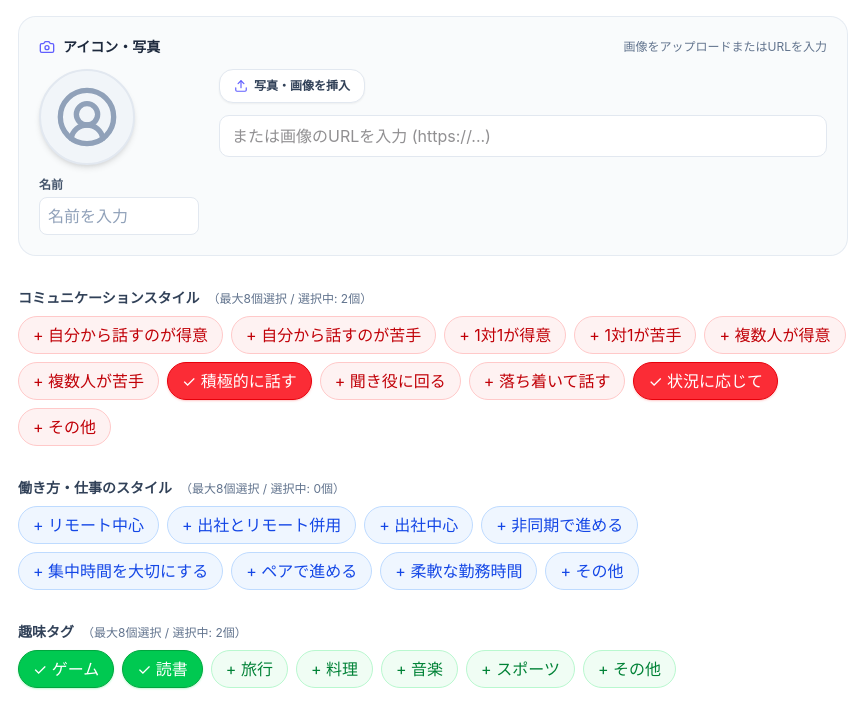
Scenario: ProfileSettingsForm (Step 3 - タグ選択UIと統合) › その他を選ぶとコミュニケーション用の独自タグを追加できる
This screenshot has width=865, height=705.
Click the 1st button "+ その他".
click(65, 427)  # box [18,408,111,446]
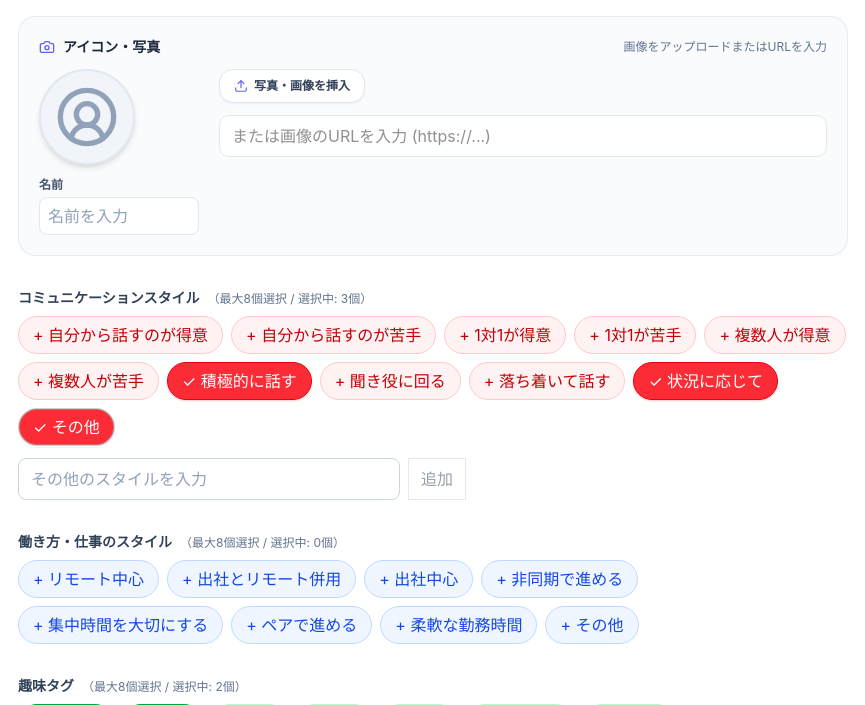
Type "チャットで相談" into the field named "コミュニケーションスタイルのカスタムタグ".
click(209, 479); type("チャットで相談")  # box [18,458,400,500]
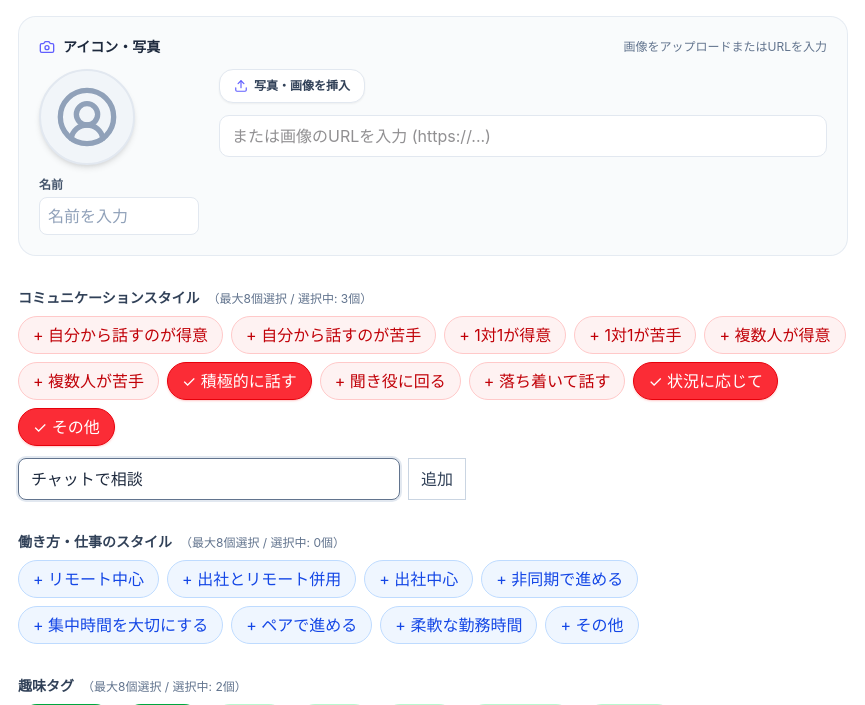
Click the button with aria-label "コミュニケーションスタイルにタグを追加".
click(437, 479)  # box [408,458,466,500]
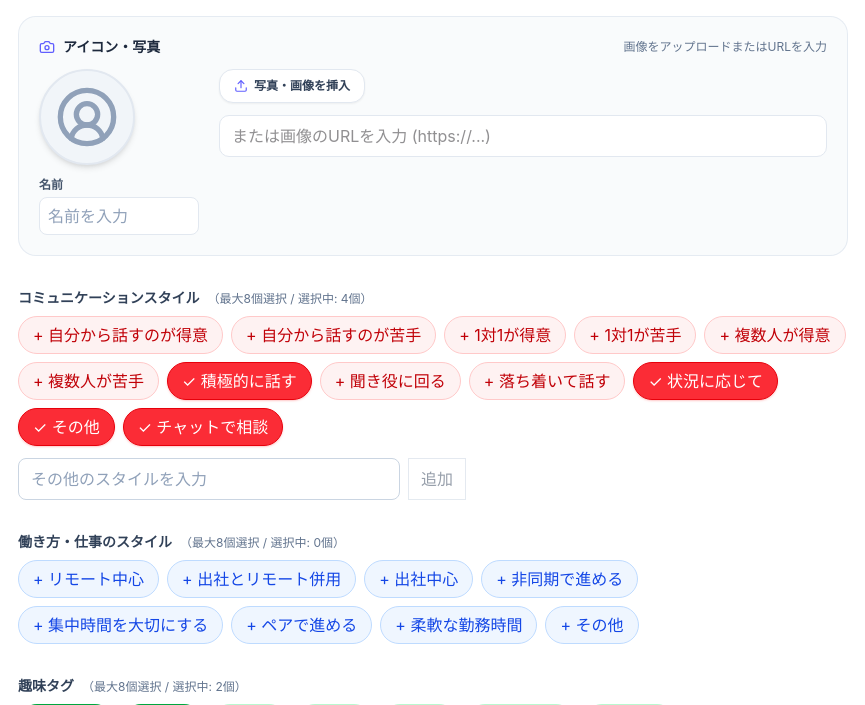
expect the button "✓ チャットで相談" is shown: met, box [123,408,283,446]
